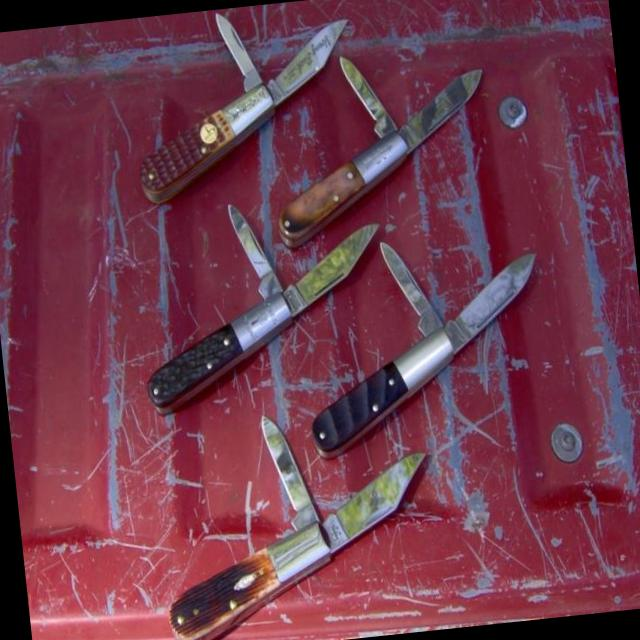Knife: (170, 416, 425, 640), (148, 205, 378, 411), (313, 243, 534, 457), (278, 56, 481, 246), (141, 18, 345, 203)
